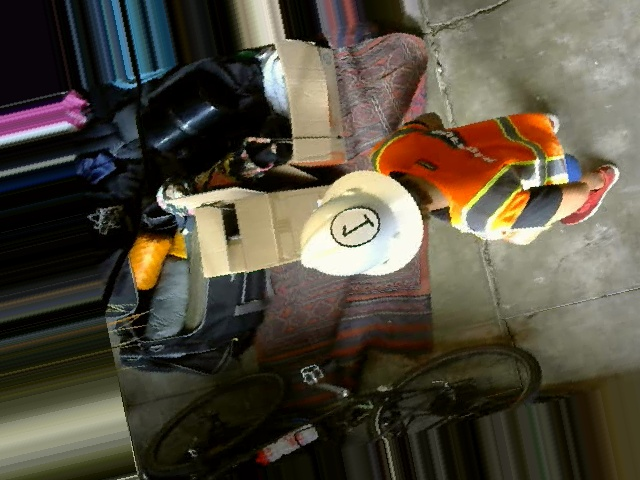one: (326, 202, 380, 251)
